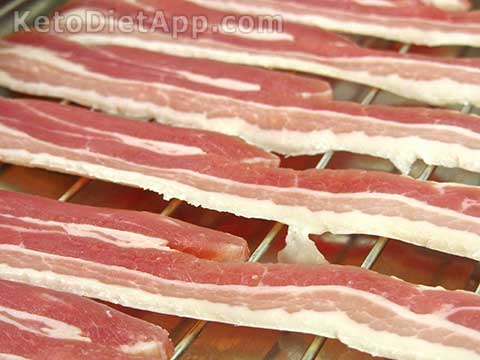bacon: (7, 197, 452, 340), (26, 91, 406, 234), (54, 30, 467, 126)
